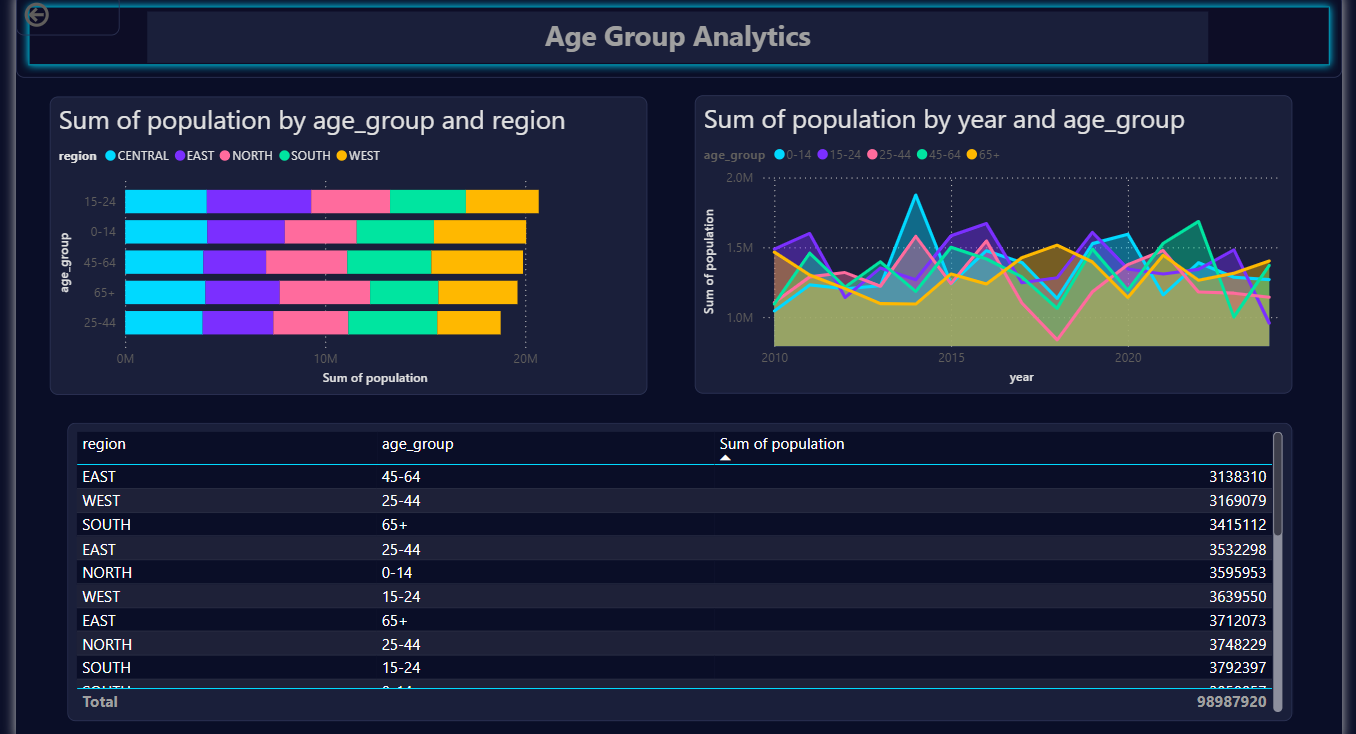

The page's visual inventory and layout, read from the dashboard file:
{"tool":"powerbi","page":{"name":"Page 3","canvas":[1280,720],"ordinal":2},"visuals":[{"type":"shape","box":[0,0,1280,80.8],"z":0},{"type":"textbox","box":[126.7,16.9,1024.3,49.5],"z":1000},{"type":"barChart","fields":{"Category":["gold_age_distribution.age_group"],"Y":["Sum(gold_age_distribution.population)"],"Series":["gold_age_distribution.region"]},"box":[32.6,98.9,576.7,288.3],"z":2000},{"type":"areaChart","fields":{"Category":["gold_age_distribution.year"],"Y":["Sum(gold_age_distribution.population)"],"Series":["gold_age_distribution.age_group"]},"box":[655.1,97.7,576.7,288.3],"z":3000},{"type":"tableEx","fields":{"Values":["gold_age_distribution.region","gold_age_distribution.age_group","Sum(gold_age_distribution.population)"]},"box":[49.5,413.8,1182.3,288.3],"z":4000},{"type":"actionButton","box":[0,0,100,40],"z":5000}]}

Visuals, with their boxes on the page's 1280x720 design canvas (x1, y1, x2, y2). These are canvas units, not pixel positions in the 1356x734 screenshot, which may show the page scaled, cropped or inside an application window:
shape: bbox=[0, 0, 1280, 81]
textbox: bbox=[127, 17, 1151, 66]
barChart - gold_age_distribution.age_group x Sum(gold_age_distribution.population): bbox=[33, 99, 609, 387]
areaChart - gold_age_distribution.year x Sum(gold_age_distribution.population): bbox=[655, 98, 1232, 386]
tableEx - gold_age_distribution.region x gold_age_distribution.age_group: bbox=[50, 414, 1232, 702]
actionButton: bbox=[0, 0, 100, 40]
